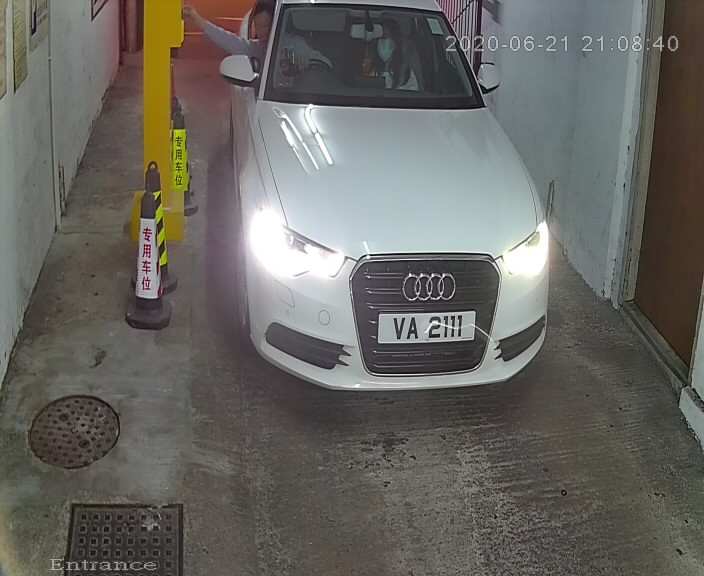privatecar: (204, 1, 567, 416)
